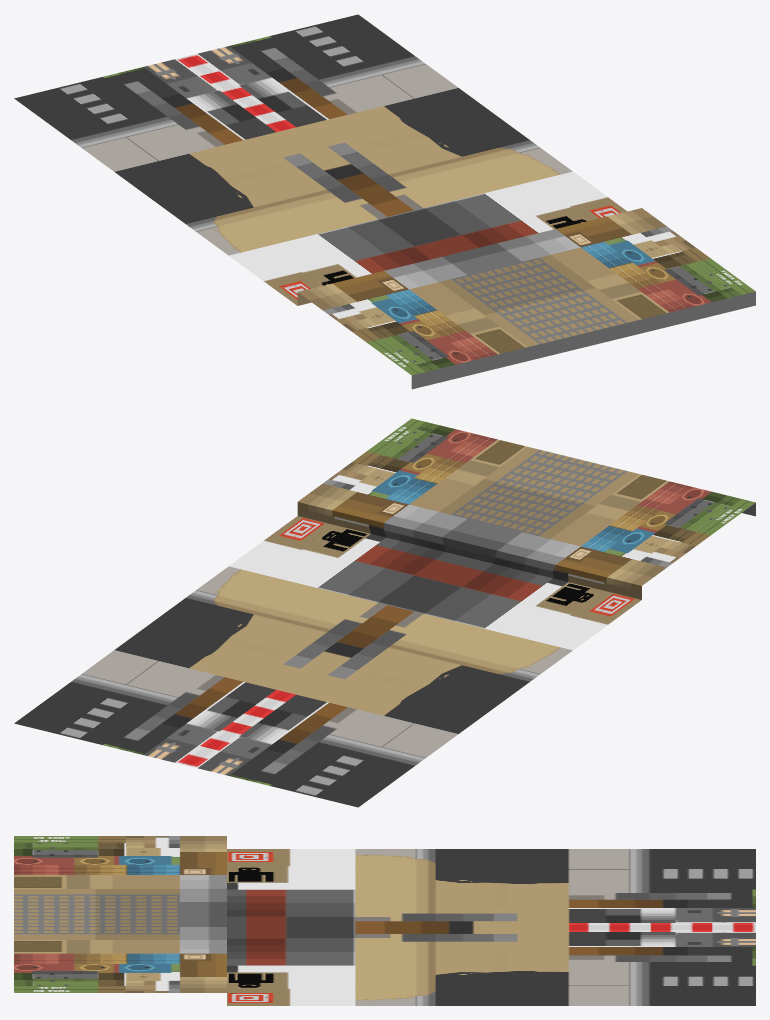
Rendered from road_straight_mesh.gltf.
3 renders of one model, top to bottom at view 1: azimuth 30°, elevation 25°; view 2: azimuth 150°, elevation 25°; view 3: azimuth 270°, elevation 25°, orthographic. The views are drawn at different scales.
Parts seen in each view (by area): view 1: road_straight_mesh; view 2: road_straight_mesh; view 3: road_straight_mesh.
Part boxes in pixels (left/top/right/bottom): road_straight_mesh: left=14, top=14, right=755, bottom=389; road_straight_mesh: left=14, top=418, right=755, bottom=807; road_straight_mesh: left=14, top=836, right=755, bottom=1005.
Bounding box in the file's own units: 5 × 0.1948 × 10.
Materials: 1 (1 with a texture image).
